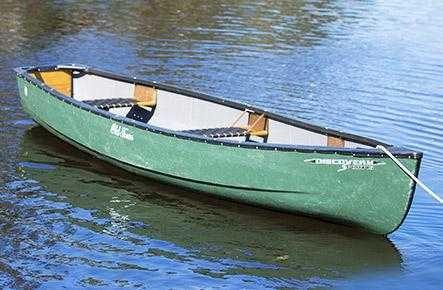kayak: (14, 61, 421, 236)
